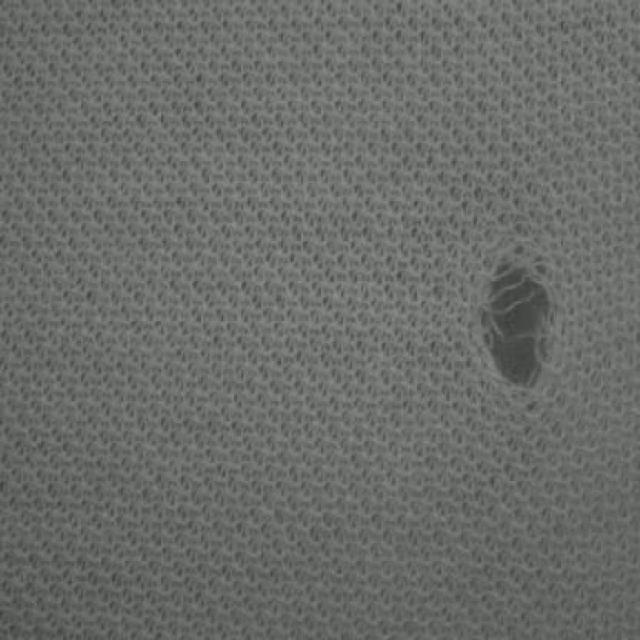Hole: (482, 246, 555, 387)
